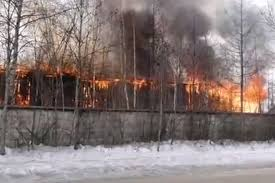fire: (27, 53, 268, 111)
